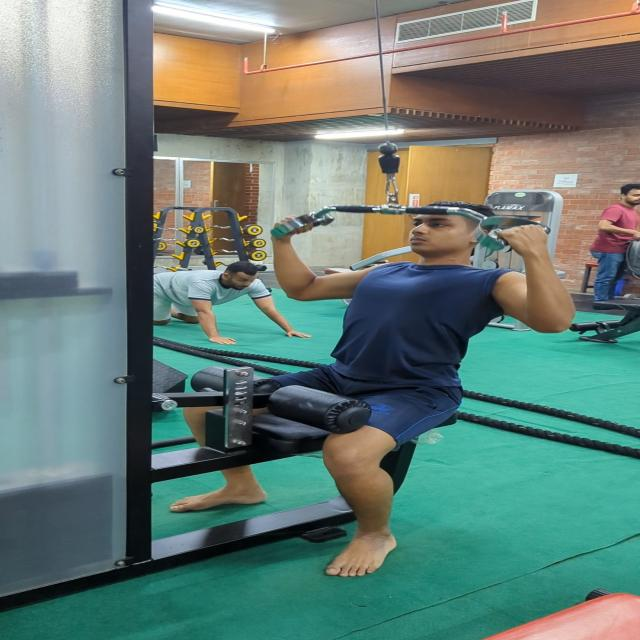Normal_LatPulldown: (166, 206, 584, 582)
